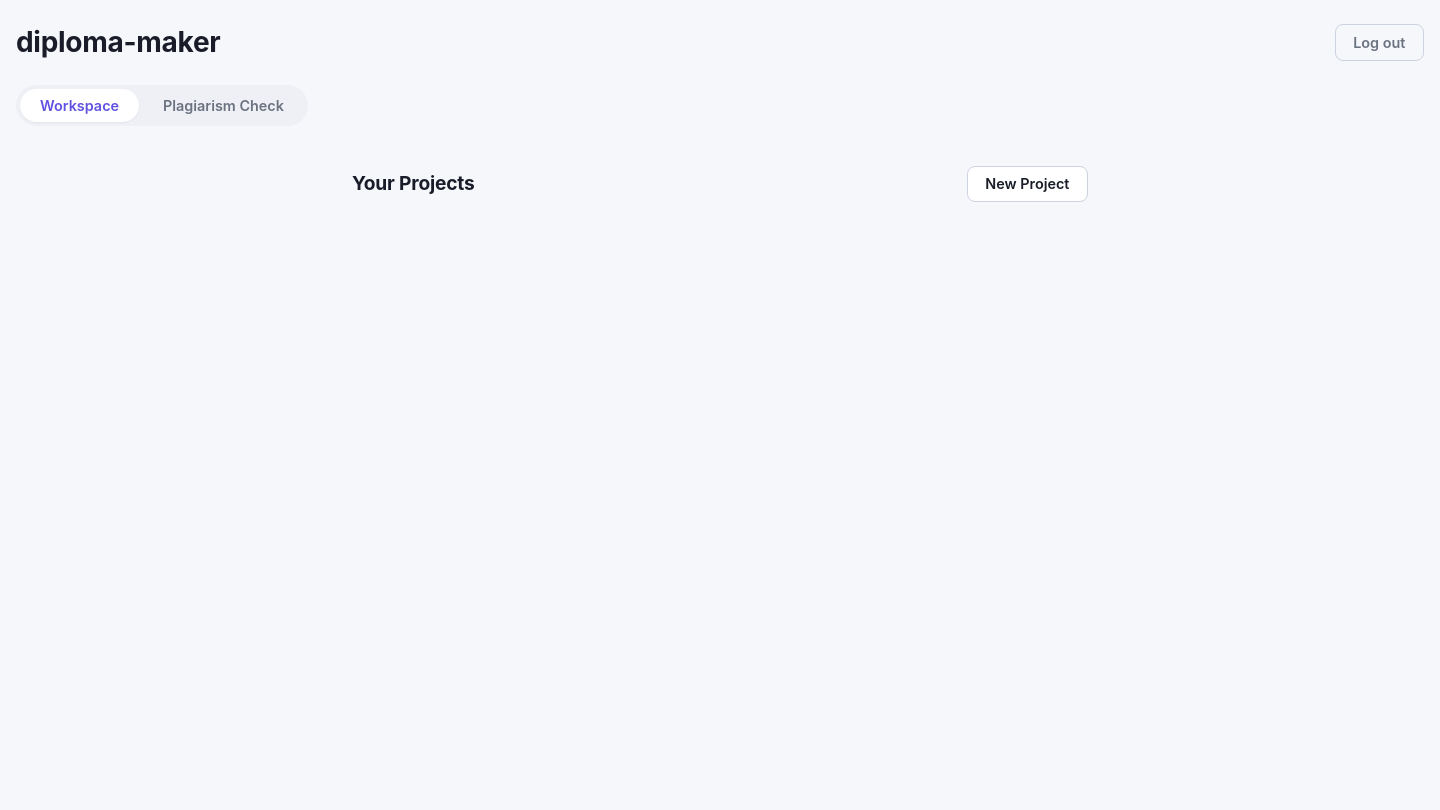
Test case: App › shows the new-project setup UI (university select/upload/auto-detect + required sources) after clicking New Project
Click the button "New Project": (1027, 184) [967,166,1088,202]
(page scrolled)
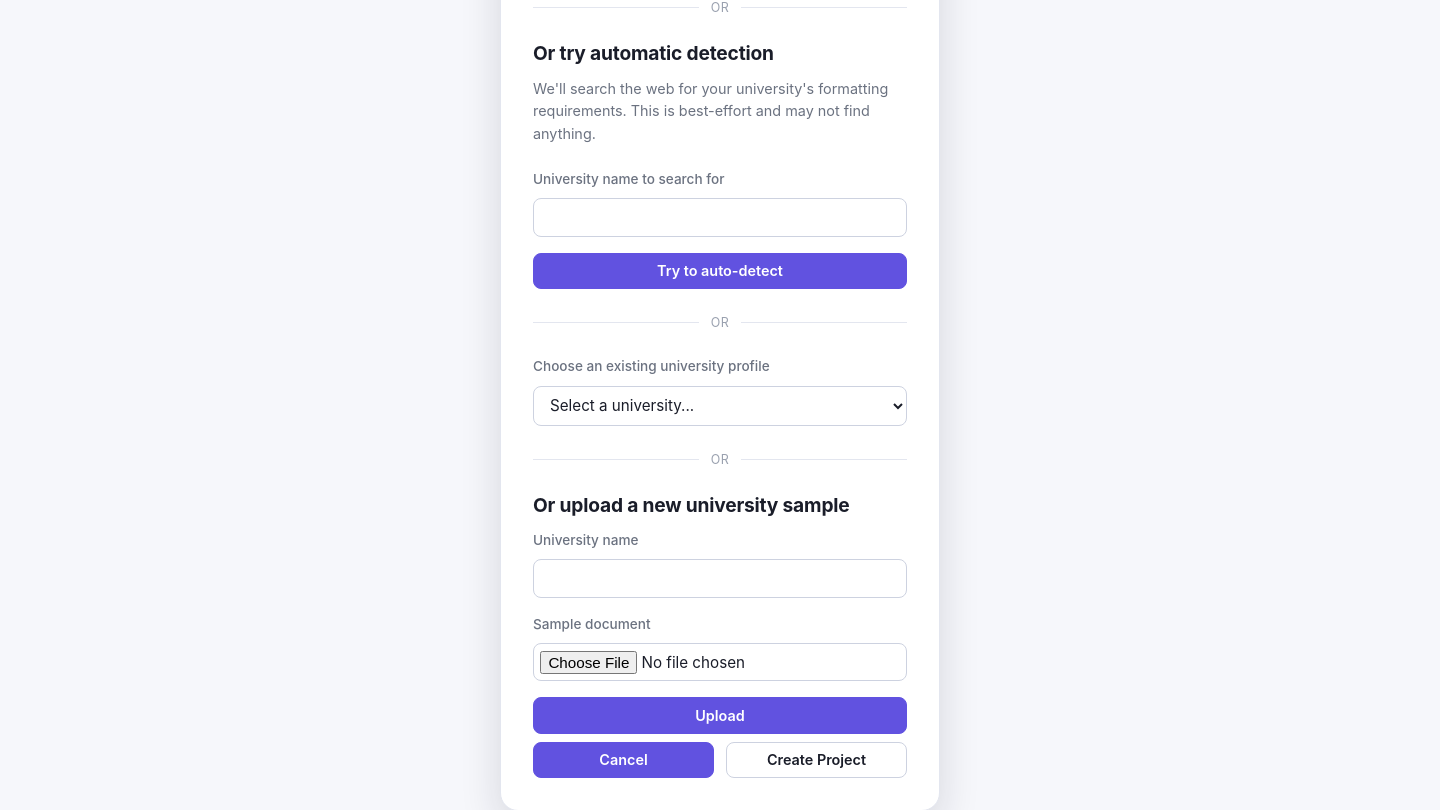
Expected: the dropdown labelled "Choose an existing university profile" is shown, [533,386,907,426]
